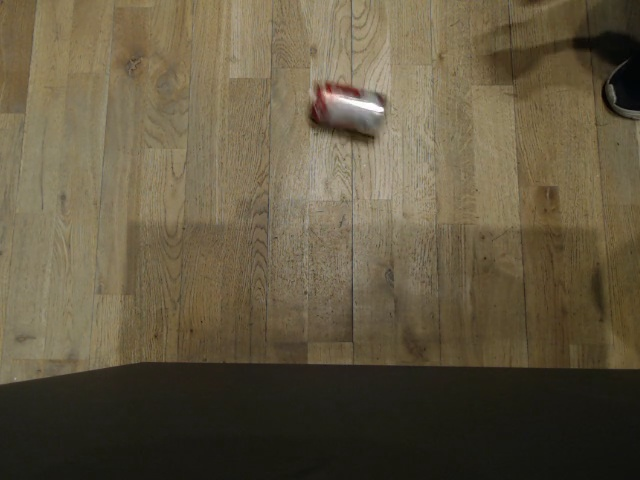cola: (305, 78, 392, 142)
